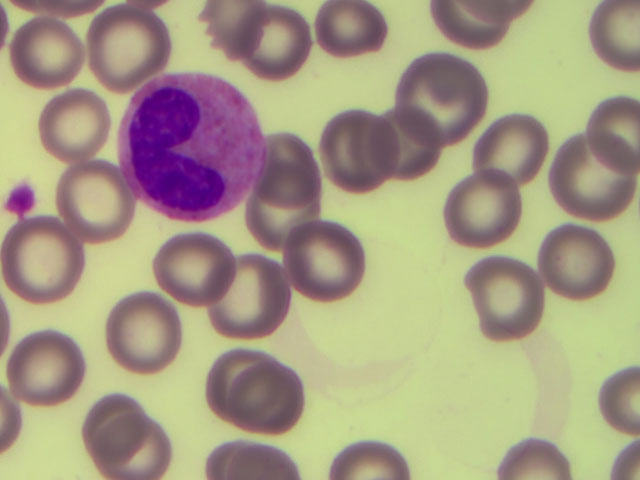RBC: (396, 45, 492, 140), (1, 216, 87, 304), (320, 105, 398, 189), (262, 123, 340, 207), (248, 188, 326, 272), (288, 215, 366, 299), (220, 251, 298, 335), (162, 223, 240, 307), (106, 287, 184, 371), (7, 329, 85, 413), (83, 391, 161, 475), (222, 348, 300, 432), (463, 254, 541, 338), (440, 173, 518, 257), (475, 106, 553, 190), (547, 142, 625, 226), (540, 221, 618, 305), (56, 159, 134, 240), (32, 85, 110, 166), (6, 13, 84, 94), (90, 7, 168, 88), (430, 1, 541, 49), (373, 109, 445, 177), (243, 7, 310, 75), (316, 1, 383, 68), (330, 431, 413, 480), (209, 431, 292, 480), (590, 89, 640, 164), (589, 1, 640, 73), (200, 1, 263, 57), (499, 438, 580, 480), (598, 362, 640, 432)
WBC: (116, 72, 262, 219), (1, 180, 39, 223)
